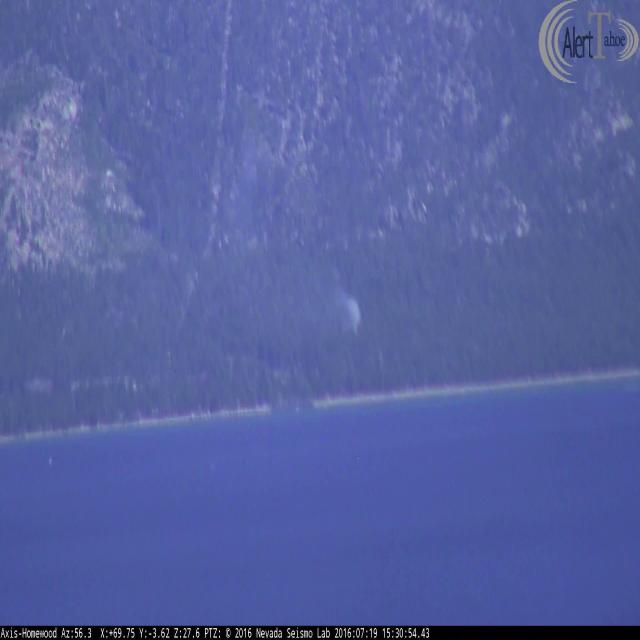smoke: (332, 276, 368, 338)
